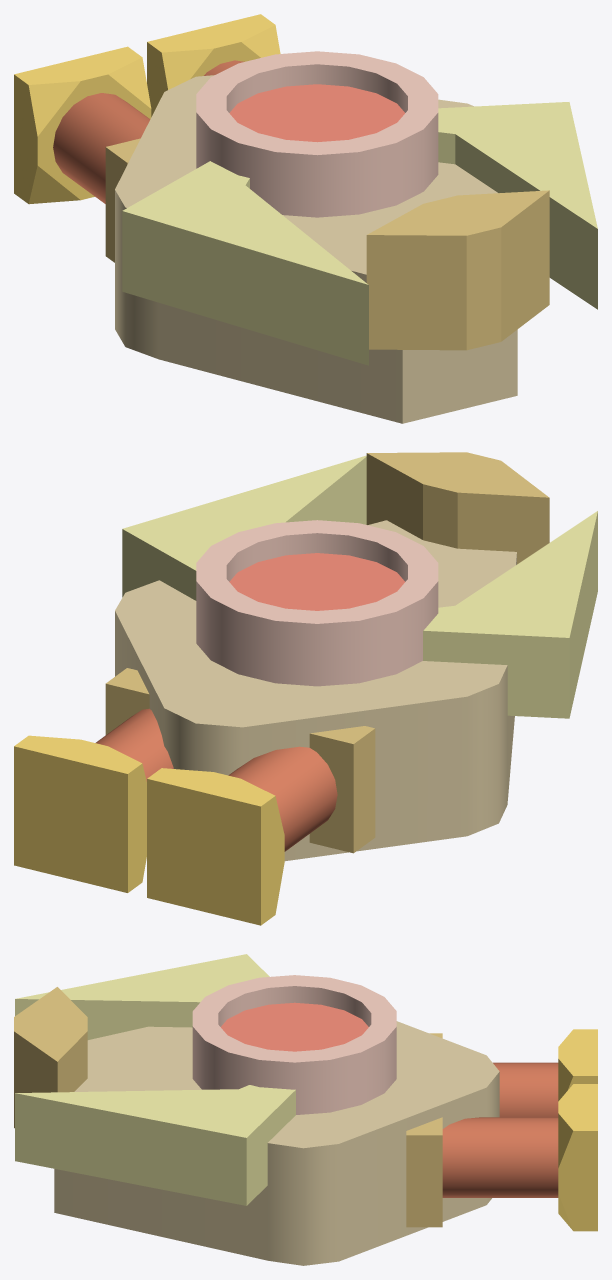
File: port30.gltf
3 views of the same model, one above another, from view 1: azimuth 30°, elevation 25°; view 2: azimuth 150°, elevation 25°; view 3: azimuth 270°, elevation 25° (orthographic). The views are drawn at different scales.
Parts seen in each view (by area): view 1: polySurface98; view 2: polySurface98; view 3: polySurface98.
Part boxes in pixels (left/top/right/bottom): polySurface98: left=14, top=14, right=597, bottom=423; polySurface98: left=14, top=452, right=597, bottom=925; polySurface98: left=14, top=954, right=597, bottom=1265.
Size of the model in its own units: 0.3359 by 0.145 by 0.4507.
